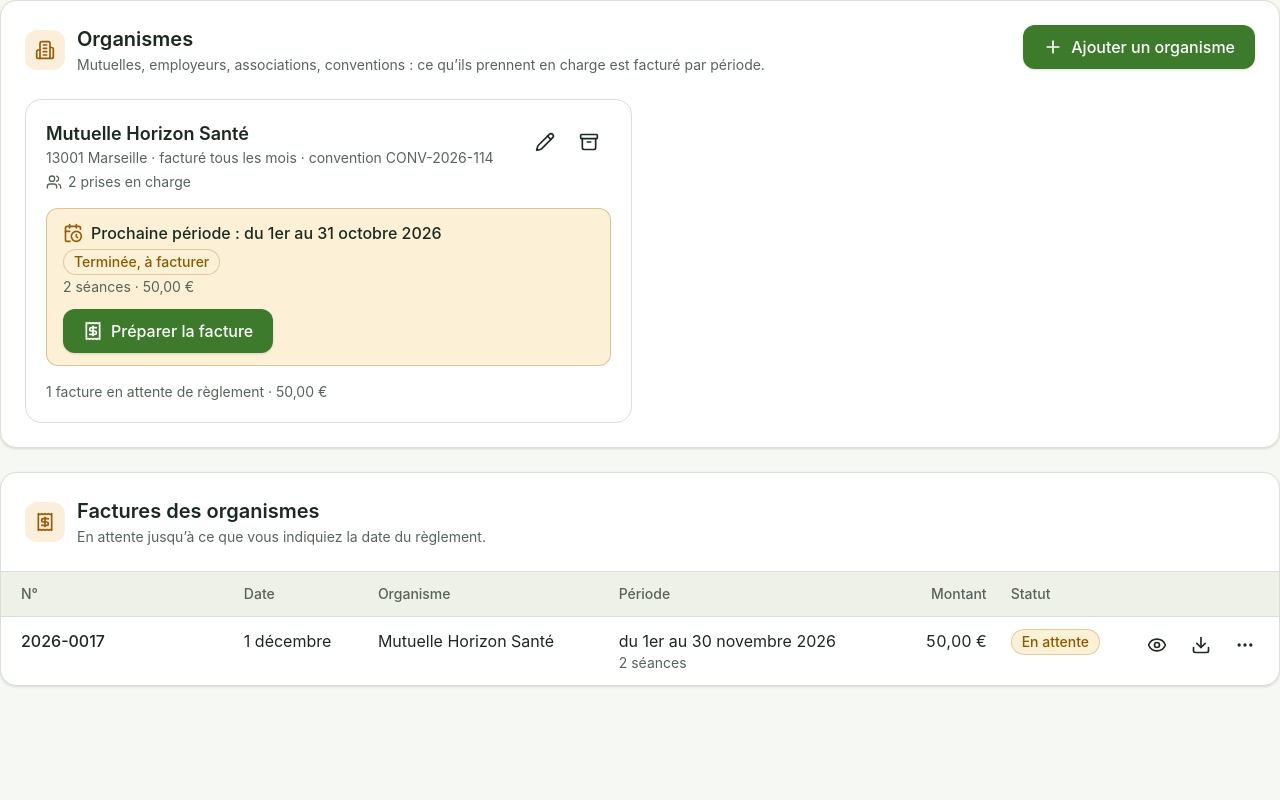
Test: PayersPanel (« Organismes ») › « Préparer la facture »: the proposed period, its sessions (nothing medical), then the invoice
Click the button "Préparer la facture": (168, 331) [63,309,273,353]
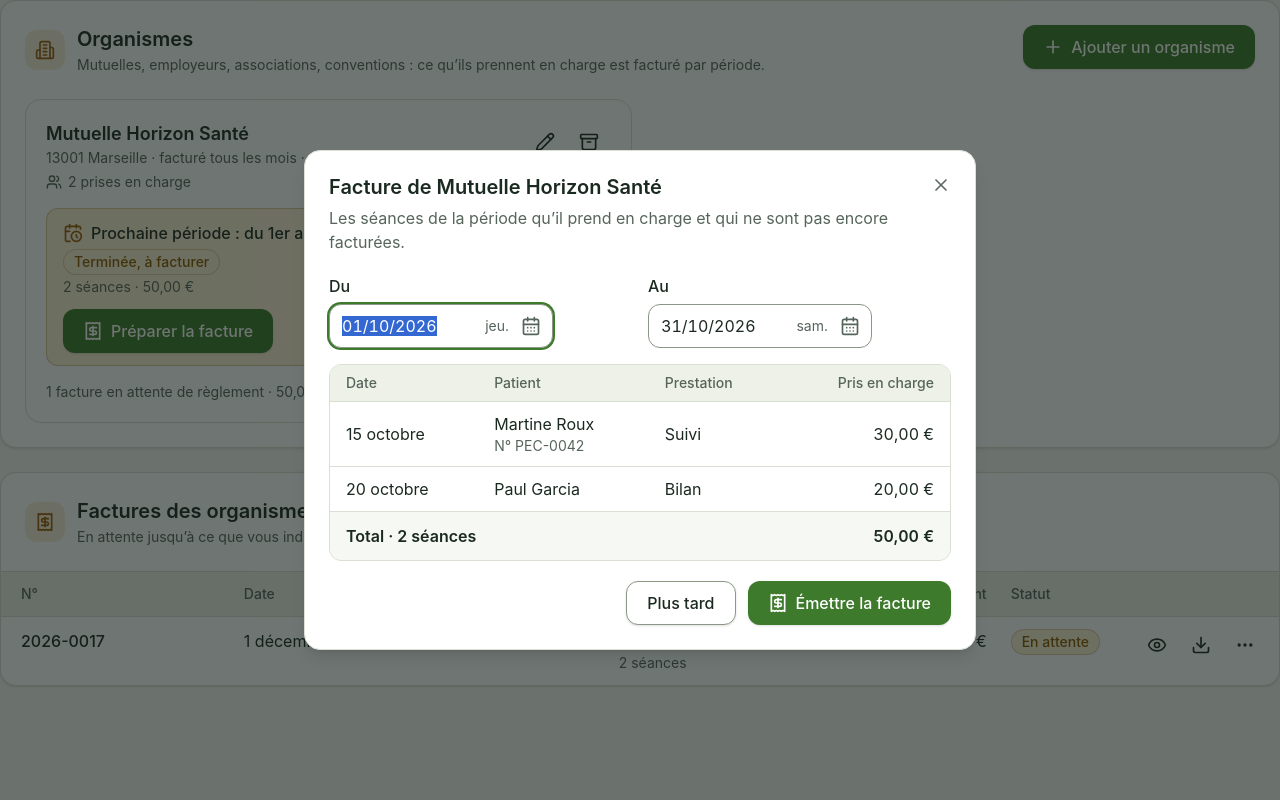
expect the field labelled "Du" holds "01/10/2026": met, box [329,304,553,348]
expect the field labelled "Au" holds "31/10/2026": met
expect the table shows "Martine Roux": met, box [330,365,950,560]
Note: The end of the period can be changed
Replace the text in the field labelled "Au" with "2026-10-25": (760, 326) [648,304,872,348]
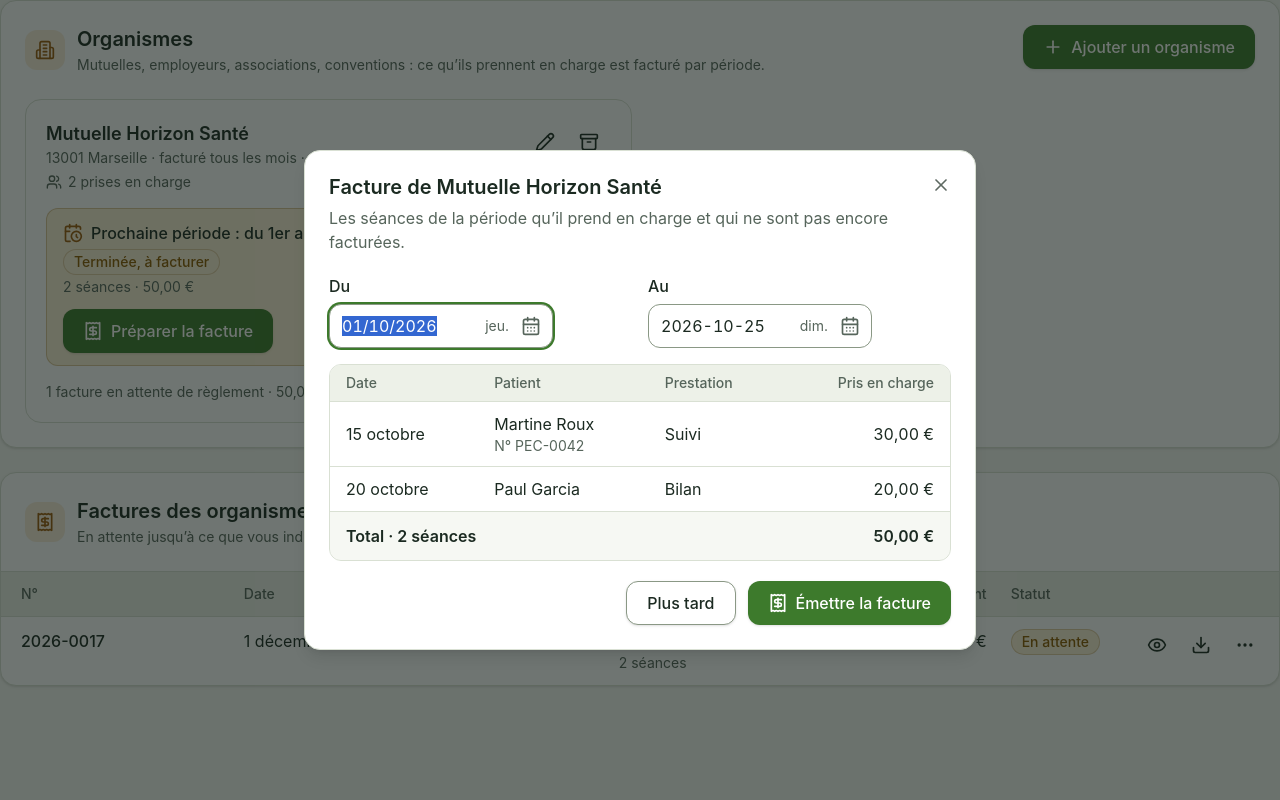
expect the button "Émettre la facture" is enabled: met
Click the button "Émettre la facture": (849, 603) [748,581,951,625]
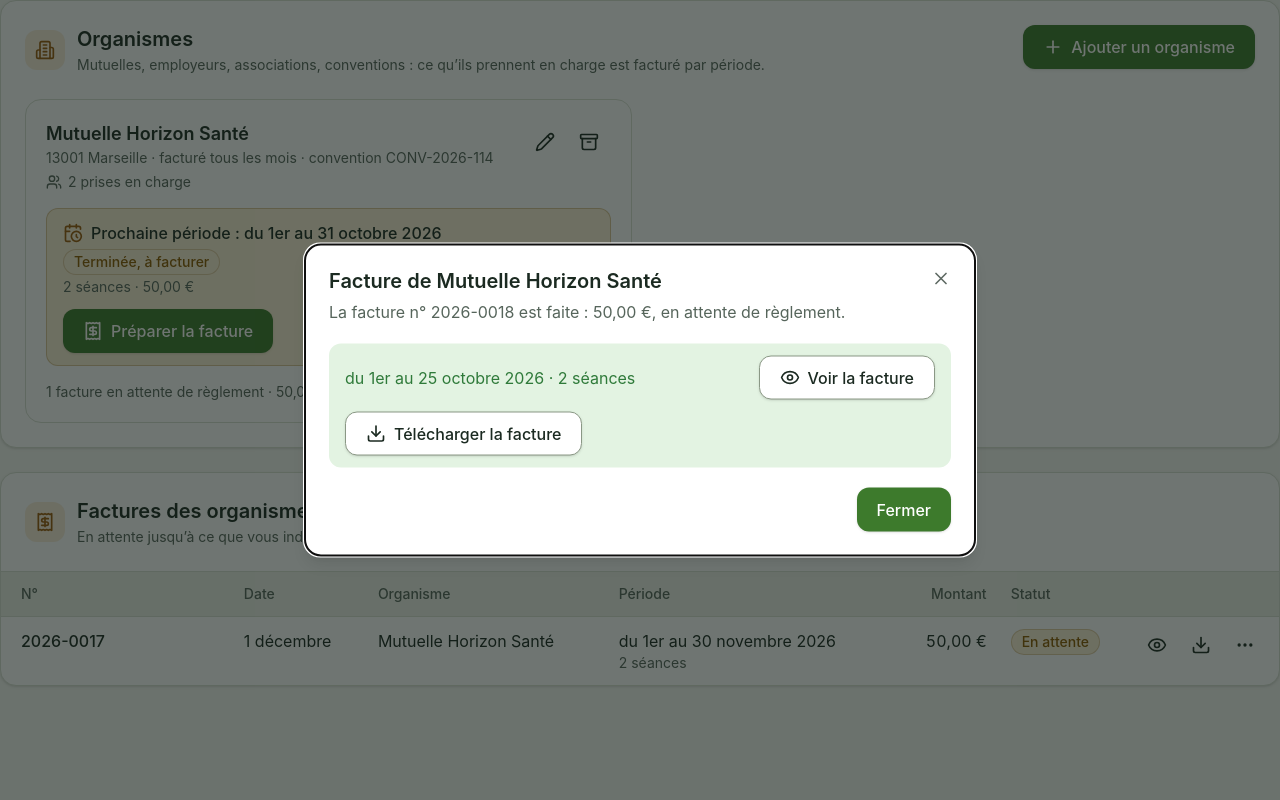
expect the button "Télécharger la facture" is shown: met, box [345,412,582,456]
